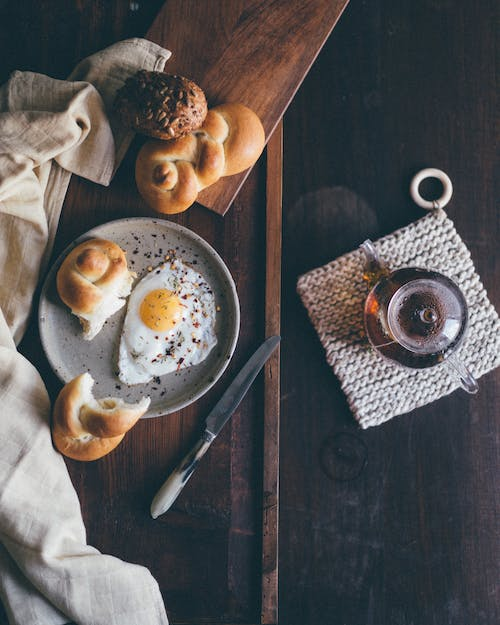knife: (148, 332, 282, 522)
